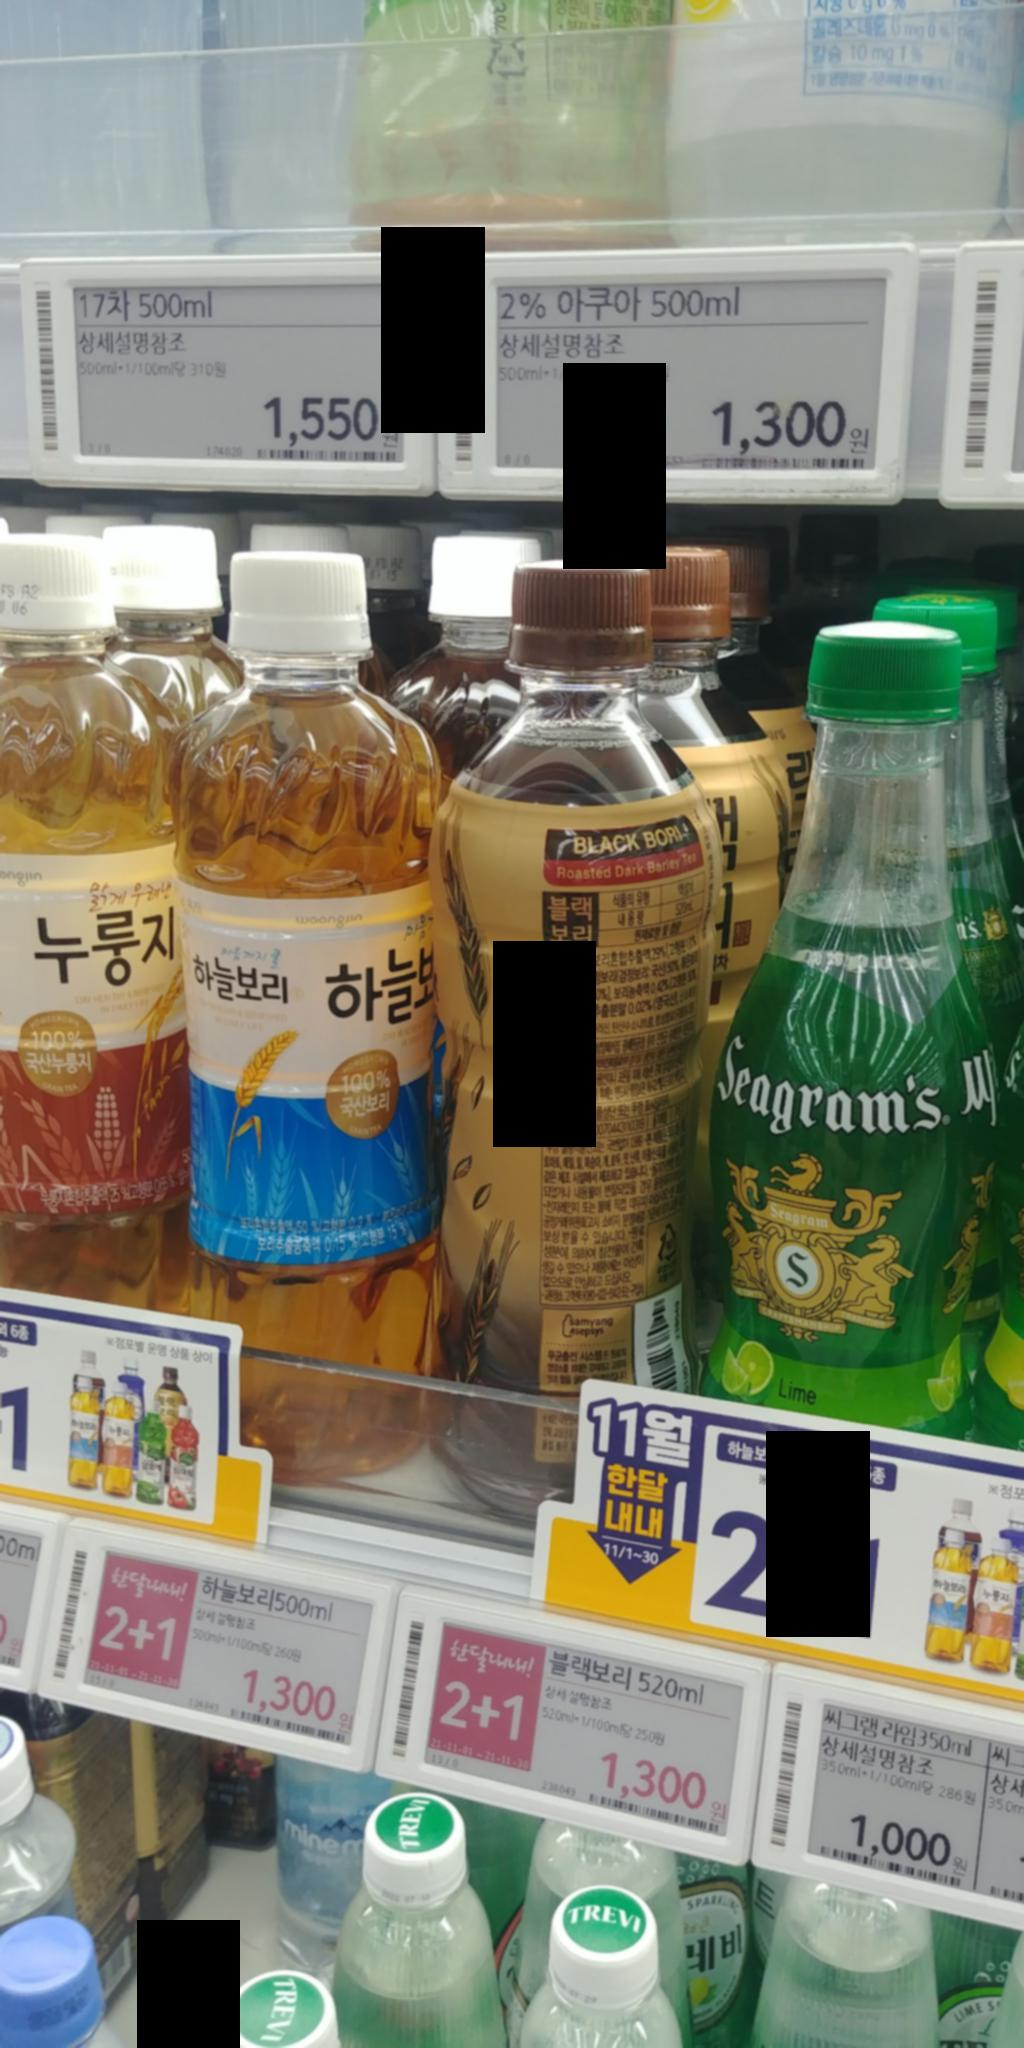haneulbori: (146, 532, 458, 1489)
